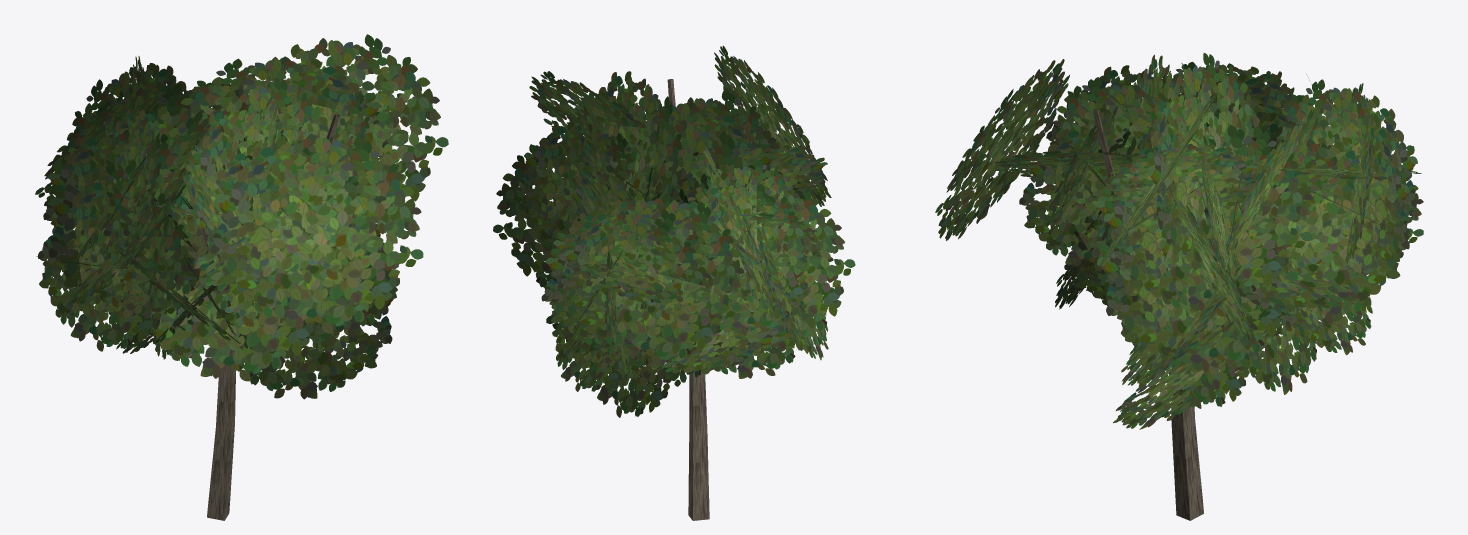
File: CommonTree_5_LOD2.gltf
3 views of the same model, side by side, from view 1: azimuth 30°, elevation 25°; view 2: azimuth 150°, elevation 25°; view 3: azimuth 270°, elevation 25° (orthographic). The views are drawn at different scales.
Visible parts, largest first — view 1: CommonTree_5_LOD2; view 2: CommonTree_5_LOD2; view 3: CommonTree_5_LOD2.
Part boxes in pixels (box(x1,y1,x2,y2)): CommonTree_5_LOD2: box(35, 34, 448, 520); CommonTree_5_LOD2: box(493, 45, 855, 520); CommonTree_5_LOD2: box(935, 53, 1423, 520).
Bounding box in the file's own units: 16.03 × 18.1 × 18.4.
2 materials, 2 textured.
